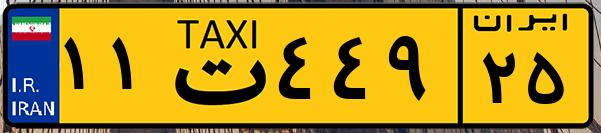1: (57, 26, 110, 100), (110, 28, 158, 98)
2: (475, 38, 525, 113)
4: (270, 28, 330, 110), (330, 28, 385, 110)
5: (525, 38, 570, 115)
9: (385, 28, 445, 110)
ت: (158, 12, 270, 120)
